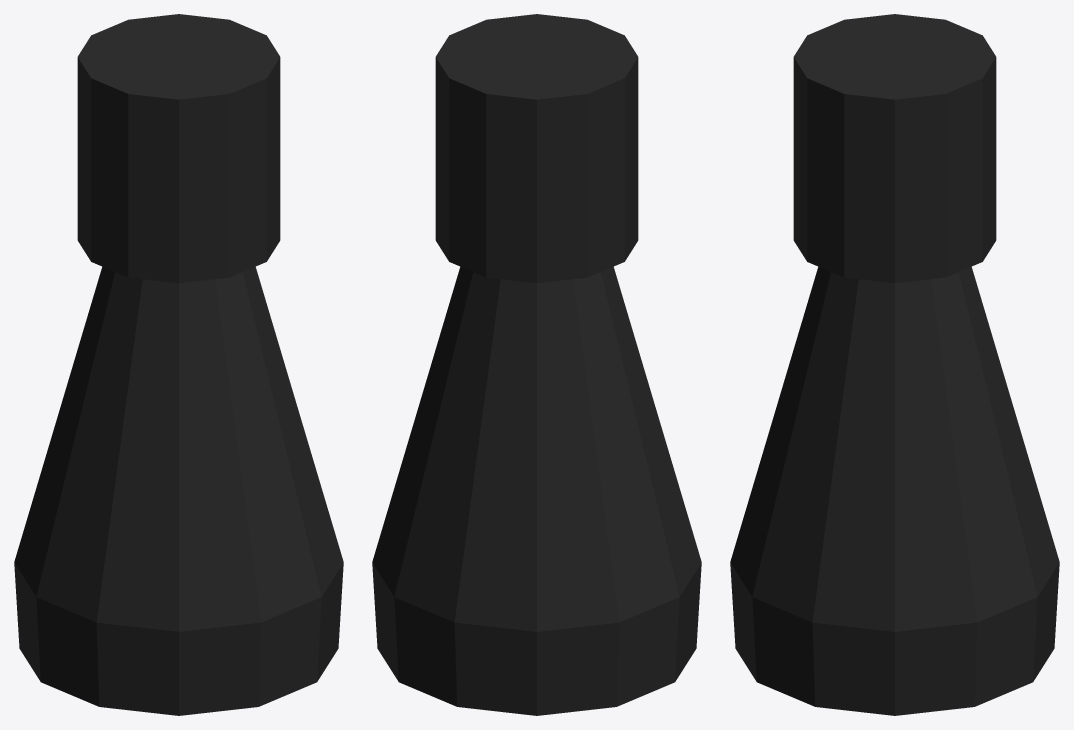
Rendered from chessRook.glb.
3 renders of one model, left to right at view 1: azimuth 30°, elevation 25°; view 2: azimuth 150°, elevation 25°; view 3: azimuth 270°, elevation 25°, orthographic.
Parts seen in each view (by area): view 1: SM_Chess_Rook; view 2: SM_Chess_Rook; view 3: SM_Chess_Rook.
Boxes of the visible parts, <box> form: SM_Chess_Rook: <box>14,14,343,715</box>; SM_Chess_Rook: <box>372,14,701,715</box>; SM_Chess_Rook: <box>730,14,1059,715</box>.
Size of the model in its own units: 0.042 by 0.0833 by 0.042.
Materials: 1 (1 with a texture image).
